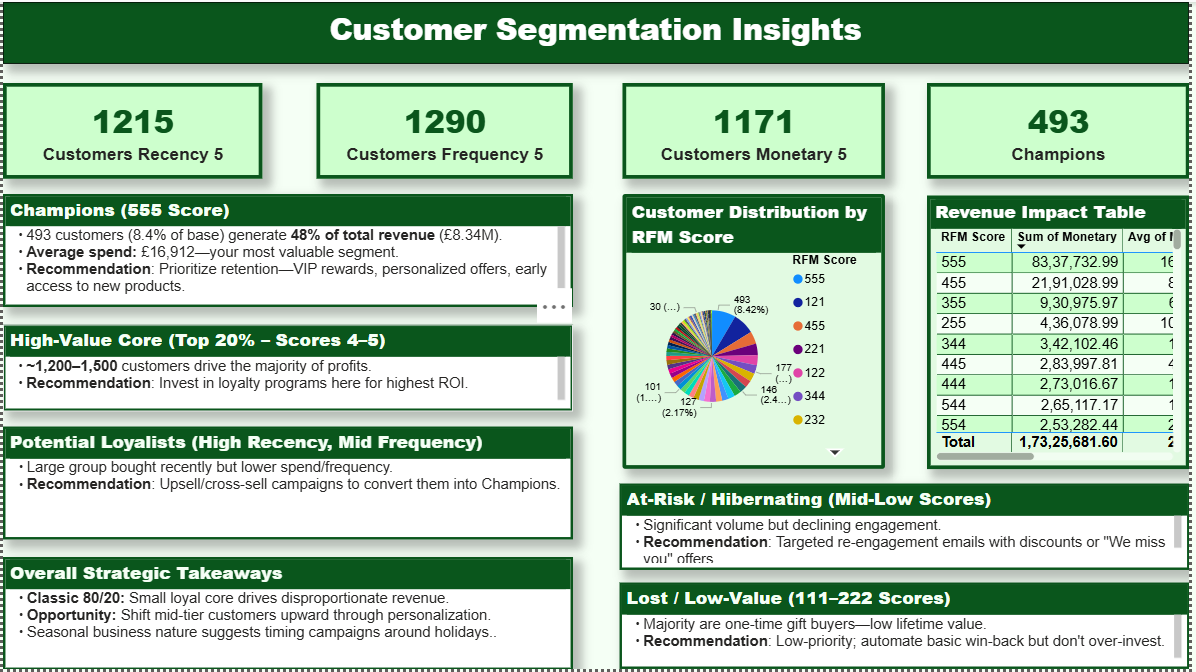

The dashboard page shown, as its layout file describes it:
{"tool":"powerbi","page":{"name":"RFM Insights","canvas":[1280,720],"ordinal":2},"visuals":[{"type":"textbox","box":[0,0,1280,66.7],"z":0},{"type":"card","fields":{"Values":["RFM Table.Customers Recency 5"]},"box":[0,86.7,280,103.3],"z":1},{"type":"card","fields":{"Values":["RFM Table.Customers Frequency 5"]},"box":[338.3,86.7,276.7,103.3],"z":2},{"type":"card","fields":{"Values":["RFM Table.Customers Monetary 5"]},"box":[668.3,86.7,283.3,103.3],"z":3},{"type":"card","fields":{"Values":["RFM Table.Champions"]},"box":[996.7,86.7,283.3,103.3],"z":4},{"type":"textbox","title":"Champions (555 Score)","box":[0,206.7,615,121.7],"z":5},{"type":"textbox","title":"High-Value Core (Top 20% – Scores 4–5)","box":[0,348.3,615,93.3],"z":6},{"type":"textbox","title":"Potential Loyalists (High Recency, Mid Frequency)","box":[0,458.3,615,121.7],"z":7},{"type":"textbox","title":"Overall Strategic Takeaways","box":[0,598.3,615,121.7],"z":8},{"type":"textbox","title":"Lost / Low-Value (111–222 Scores)","box":[665,626.7,615,93.3],"z":9},{"type":"textbox","title":"At-Risk / Hibernating (Mid-Low Scores)","box":[665,520,615,93.3],"z":10},{"type":"pieChart","title":"Customer Distribution by RFM Score","fields":{"Category":["RFM Table.RFM Score"],"Y":["CountNonNull(RFM Table.CustomerID)"]},"box":[668.3,206.7,283.3,296.7],"z":11},{"type":"tableEx","title":"Revenue Impact Table","fields":{"Values":["RFM Table.RFM Score","Sum(RFM Table.Monetary)","Avg(RFM Table.Monetary)","RFM Table.% Revenue from RFM","CountNonNull(RFM Table.CustomerID)"]},"box":[996.7,208.3,283.3,295],"z":12}]}

Visuals, with their boxes in screenshot pixels (x1, y1, x2, y2), scaled from the page's 1280x720 canvas onto the 1196x672 screenshot:
textbox: <region>0, 0, 1195, 62</region>
card - RFM Table.Customers Recency 5: <region>0, 81, 262, 177</region>
card - RFM Table.Customers Frequency 5: <region>316, 81, 575, 177</region>
card - RFM Table.Customers Monetary 5: <region>624, 81, 889, 177</region>
card - RFM Table.Champions: <region>931, 81, 1195, 177</region>
"Champions (555 Score)" textbox: <region>0, 193, 575, 307</region>
"High-Value Core (Top 20% – Scores 4–5)" textbox: <region>0, 325, 575, 412</region>
"Potential Loyalists (High Recency, Mid Frequency)" textbox: <region>0, 428, 575, 541</region>
"Overall Strategic Takeaways" textbox: <region>0, 558, 575, 671</region>
"Lost / Low-Value (111–222 Scores)" textbox: <region>621, 585, 1195, 671</region>
"At-Risk / Hibernating (Mid-Low Scores)" textbox: <region>621, 485, 1195, 572</region>
"Customer Distribution by RFM Score" pieChart: <region>624, 193, 889, 470</region>
"Revenue Impact Table" tableEx: <region>931, 194, 1195, 470</region>
